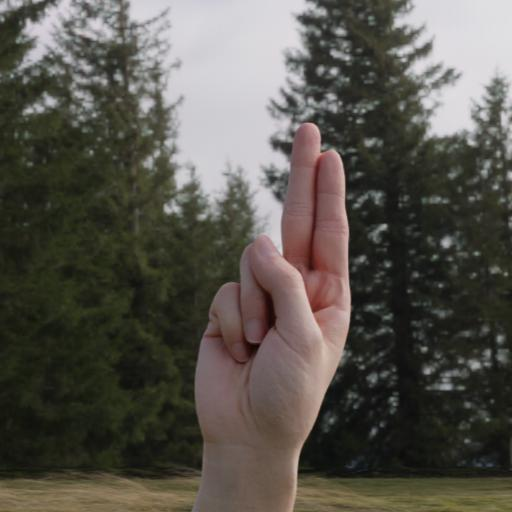U: (170, 103, 395, 512)
